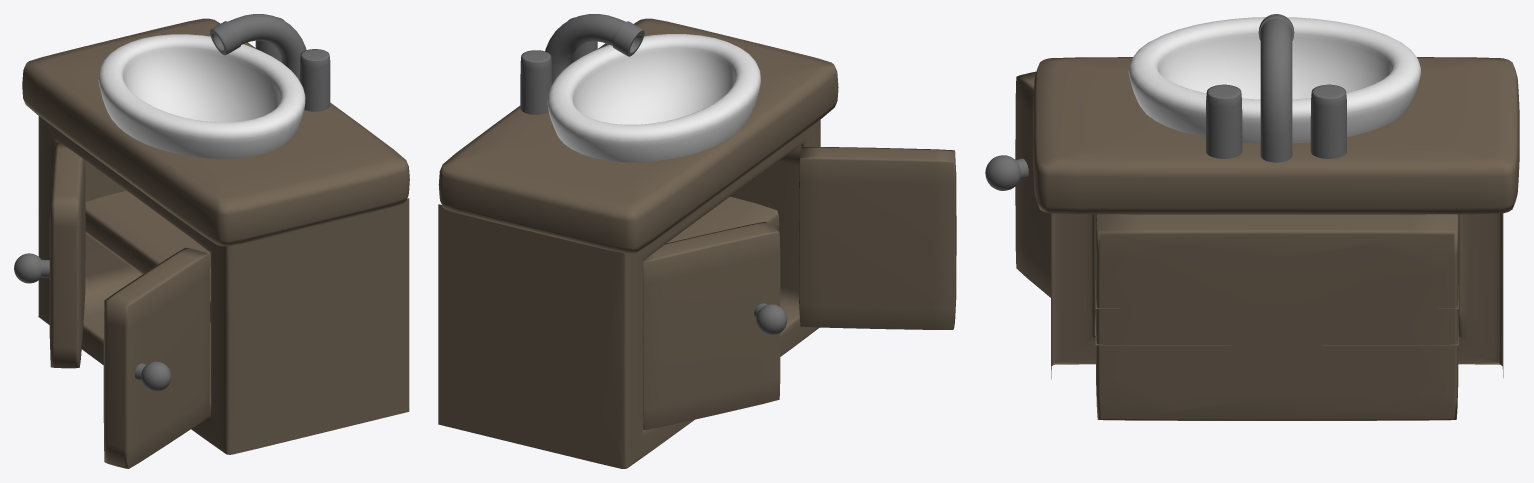
Rendered from sink01.fbx.
3 renders of one model, left to right at view 1: azimuth 30°, elevation 25°; view 2: azimuth 150°, elevation 25°; view 3: azimuth 270°, elevation 25°, orthographic. The views are drawn at different scales.
Parts seen in each view (by area): view 1: sink01; view 2: sink01; view 3: sink01.
Boxes of the visible parts, x1,y1,x2,y2 form: sink01: (14, 14, 409, 468); sink01: (438, 14, 956, 468); sink01: (985, 14, 1519, 420).
Size of the model in its own units: 182 by 192 by 230.
